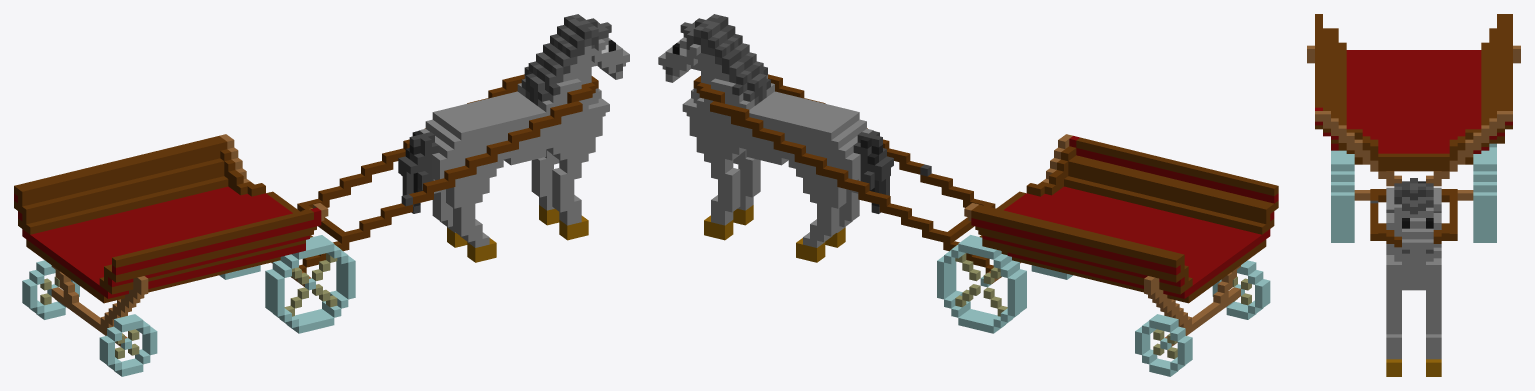
File: horse.obj
3 views of the same model, side by side, from view 1: azimuth 30°, elevation 25°; view 2: azimuth 150°, elevation 25°; view 3: azimuth 270°, elevation 25° (orthographic). The views are drawn at different scales.
Size of the model in its own units: 79 by 27 by 27.
